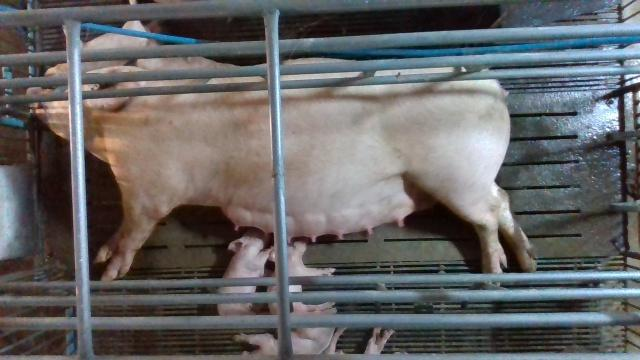piglet: (43, 20, 147, 75), (267, 241, 337, 315), (217, 232, 274, 315), (233, 328, 335, 354)
sow-sleep-lactate: (25, 57, 538, 287)
